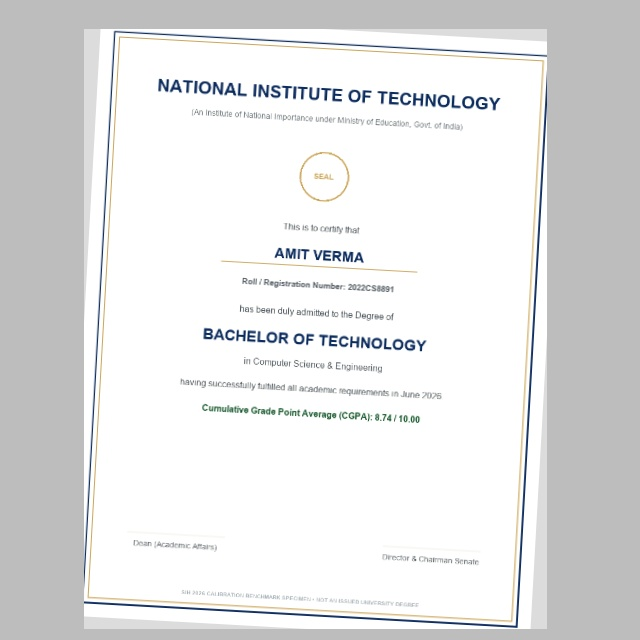marksheet: (84, 29, 547, 629)
